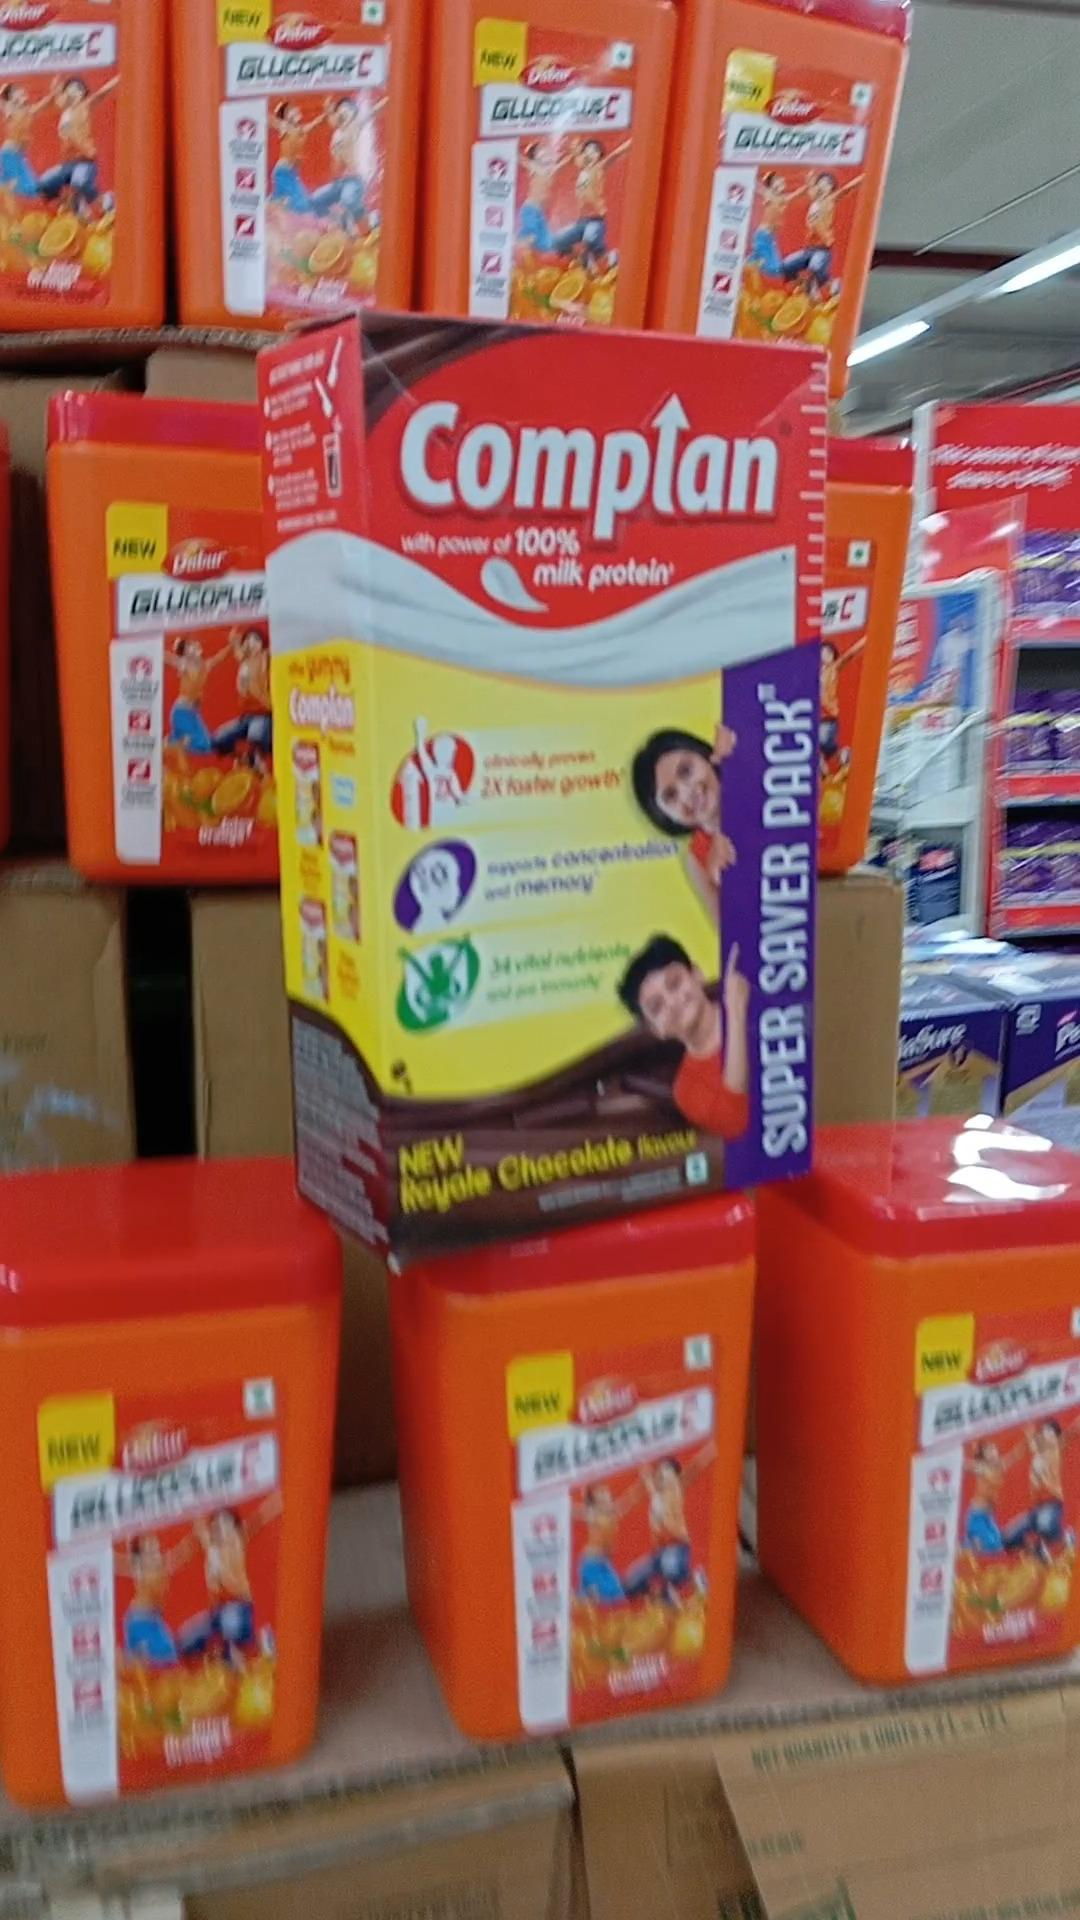COMPLAN_CHOCOLATE_1_KG_PACK: (359, 309, 812, 1213)
